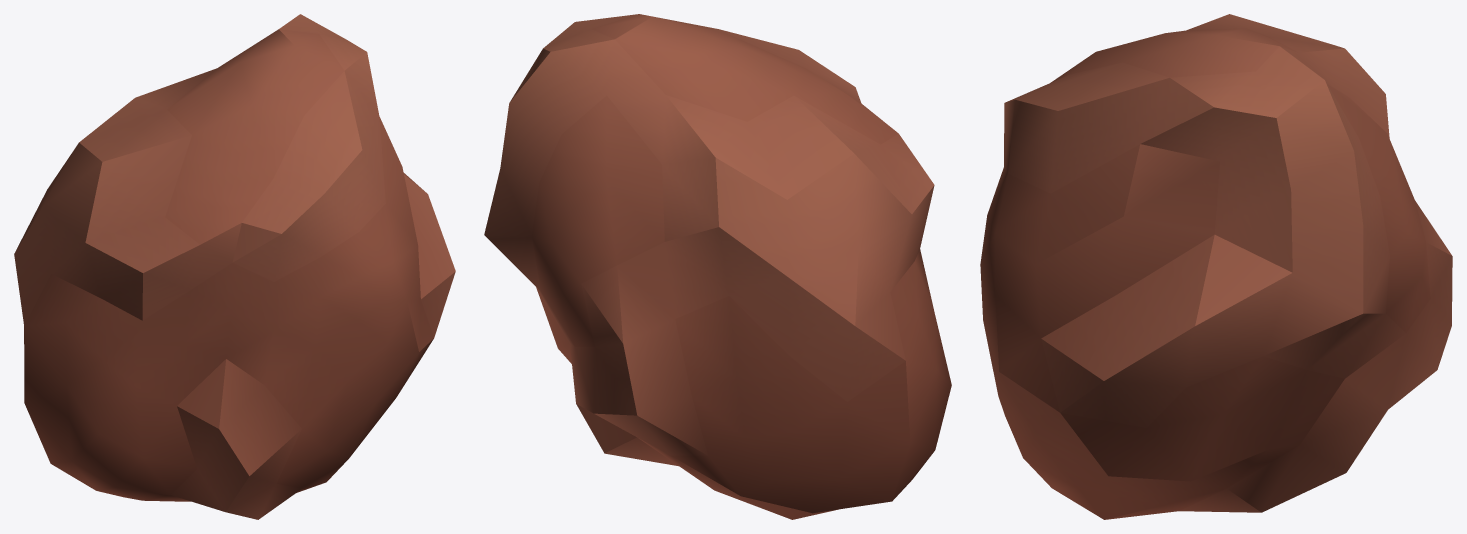
File: Rock_3_N_Color2.fbx
3 renders of one model, left to right at view 1: azimuth 30°, elevation 25°; view 2: azimuth 150°, elevation 25°; view 3: azimuth 270°, elevation 25°, orthographic. The views are drawn at different scales.
Visible parts, largest first — view 1: Rock_3_N_Color2; view 2: Rock_3_N_Color2; view 3: Rock_3_N_Color2.
Boxes of the visible parts, box(x1,y1,x2,y2) form: Rock_3_N_Color2: box(14, 14, 455, 519); Rock_3_N_Color2: box(484, 14, 951, 519); Rock_3_N_Color2: box(980, 14, 1452, 519).
Size of the model in its own units: 3.42 by 3.53 by 2.98.
